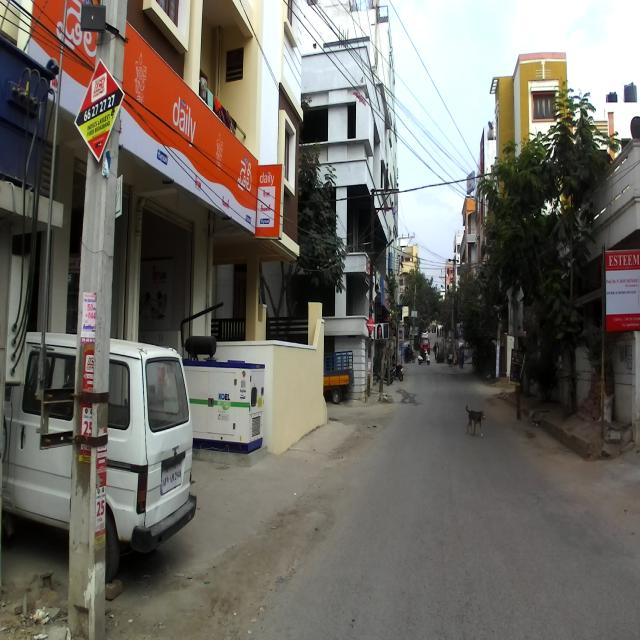electric pole ahead at: (63, 0, 135, 640)
